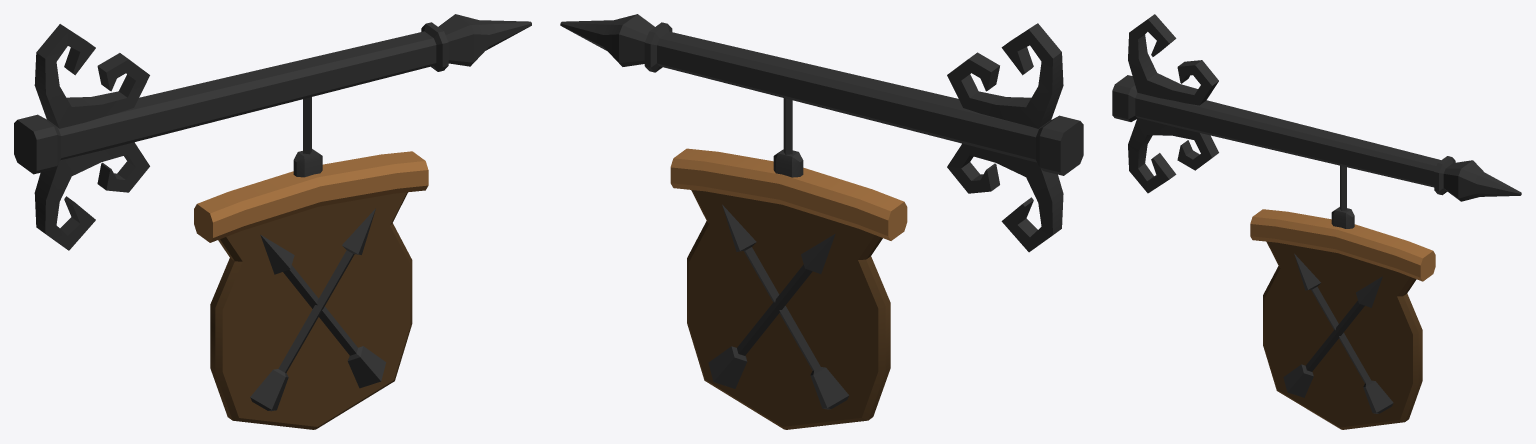
Rendered from SM_sign_armory.fbx.
3 views of the same model, side by side, from view 1: azimuth 30°, elevation 25°; view 2: azimuth 150°, elevation 25°; view 3: azimuth 330°, elevation 25° (orthographic). The views are drawn at different scales.
Parts seen in each view (by area): view 1: Line017; view 2: Line017; view 3: Line017.
Part boxes in pixels (x1,y1,x2,y2): Line017: (14, 14, 531, 429); Line017: (560, 14, 1083, 429); Line017: (1112, 14, 1521, 429).
Bounding box in the file's own units: 72.05 × 62.53 × 7.72.
